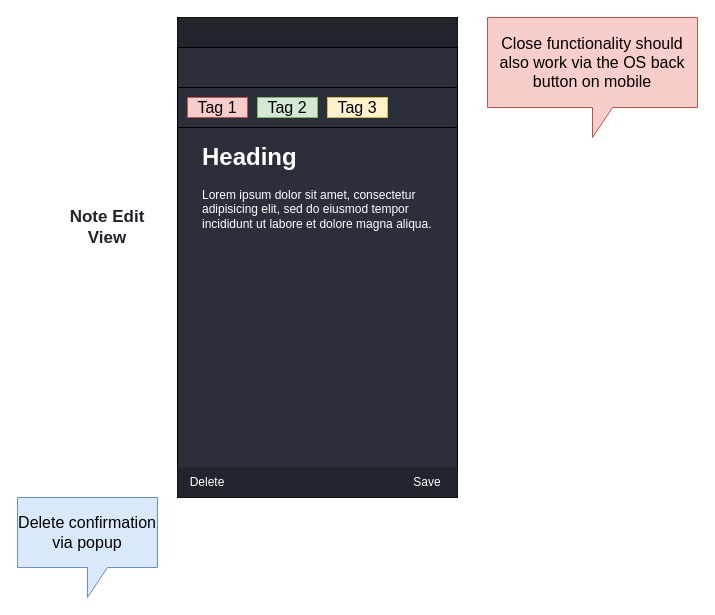
Some shapes in this 715 by 615 pixel diagram are drawn without their labels. Here are the shapes that lost their labels. From the top down, the centre of each, then its label:
At [317,32]: "< Close".
At [317,67]: "Note Title".
